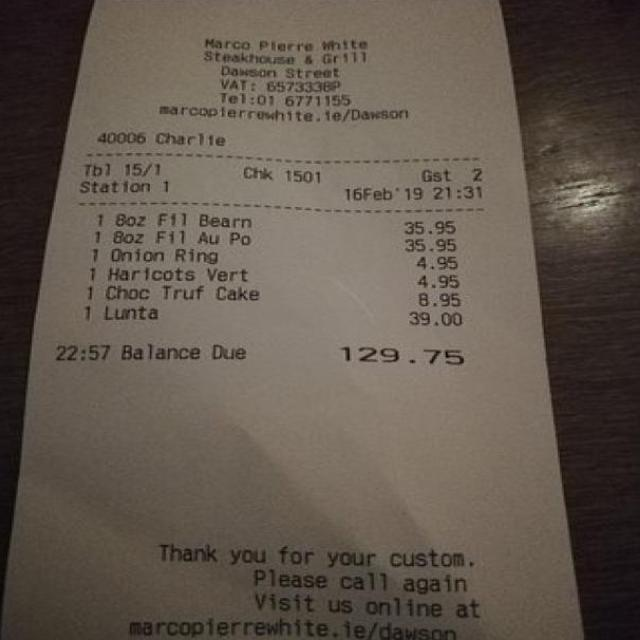kertas: (2, 0, 584, 640)
